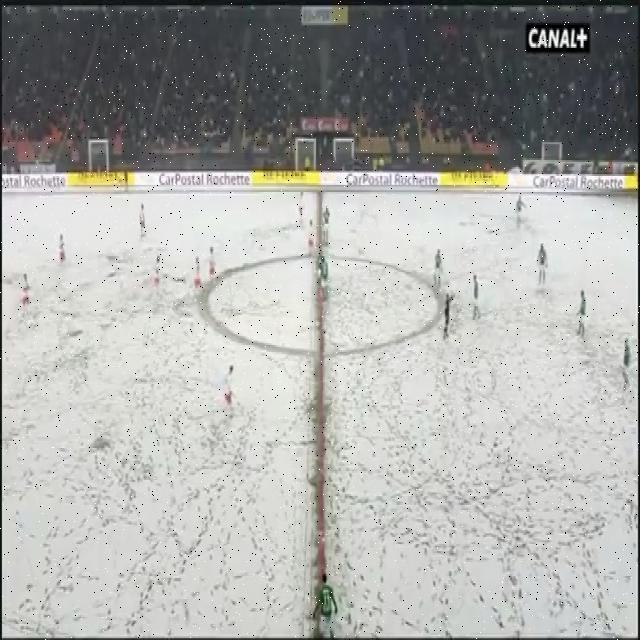player: (213, 341, 244, 425), (314, 559, 346, 640), (616, 316, 640, 419), (15, 265, 48, 334), (570, 278, 593, 358), (531, 235, 551, 311), (206, 227, 228, 295), (468, 275, 489, 344), (318, 245, 339, 314), (48, 227, 72, 287), (131, 191, 154, 253), (183, 245, 205, 304), (301, 204, 321, 261), (509, 192, 529, 245), (322, 199, 342, 246), (433, 245, 454, 282), (149, 248, 162, 292)
referee: (436, 281, 458, 353)
